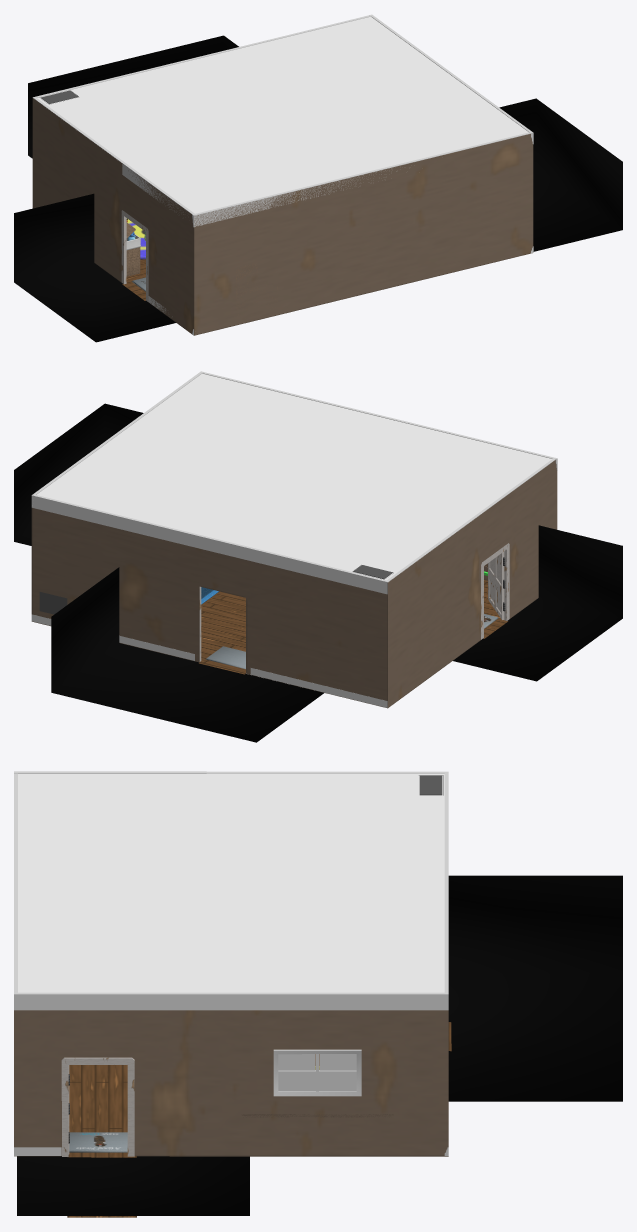
Rendered from Terromino - Bedroom STRETCHED.fbx.
The picture shows the model from 3 angles, top to bottom: view 1: azimuth 30°, elevation 25°; view 2: azimuth 150°, elevation 25°; view 3: azimuth 270°, elevation 25°; orthographic projection. The views are drawn at different scales.
Visible parts, largest first — view 1: Walls, Ceiling, Black_Hallways_Left, Black_Hallways_Right, Ceiling_Accents, Black_Hallways_Front, Door_Outline_Front.002, Hamper; view 2: Ceiling, Walls, Black_Hallways_Front, Black_Hallways_Left, Ceiling_Accents, Black_Hallways_Right, Floor, Floor_Accents, Door_Left, Door_Outline_Front.002, Closet_Carpet.001; view 3: Ceiling, Walls, Black_Hallways_Front, Black_Hallways_Right, Ceiling_Accents, Floor, Window_Glass, Door_Outline_Front.001, Window, Bathroom_Carpet.
Part boxes in pixels (<box>): Walls: <box>32,98,533,335</box>; Ceiling: <box>37,16,528,213</box>; Black_Hallways_Left: <box>14,193,175,342</box>; Black_Hallways_Right: <box>499,98,622,251</box>; Ceiling_Accents: <box>32,14,533,227</box>; Black_Hallways_Front: <box>28,35,238,158</box>; Door_Outline_Front.002: <box>121,210,148,301</box>; Hamper: <box>126,222,140,276</box>; Ceiling: <box>37,373,551,580</box>; Walls: <box>31,460,557,708</box>; Black_Hallways_Front: <box>51,567,323,742</box>; Black_Hallways_Left: <box>453,525,622,681</box>; Ceiling_Accents: <box>31,371,557,594</box>; Black_Hallways_Right: <box>14,403,143,545</box>; Floor: <box>199,580,507,674</box>; Floor_Accents: <box>31,614,387,707</box>; Door_Left: <box>488,551,504,619</box>; Door_Outline_Front.002: <box>481,543,509,639</box>; Closet_Carpet.001: <box>205,646,245,669</box>; Ceiling: <box>18,773,444,992</box>; Walls: <box>14,1010,448,1156</box>; Black_Hallways_Front: <box>448,875,622,1101</box>; Black_Hallways_Right: <box>17,1156,249,1215</box>; Ceiling_Accents: <box>14,771,448,1010</box>; Floor: <box>67,1022,451,1217</box>; Window_Glass: <box>278,1054,356,1090</box>; Door_Outline_Front.001: <box>61,1057,134,1156</box>; Window: <box>273,1049,361,1096</box>; Bathroom_Carpet: <box>69,1132,127,1152</box>.
Size of the model in its own units: 4049 by 1012 by 3108.
